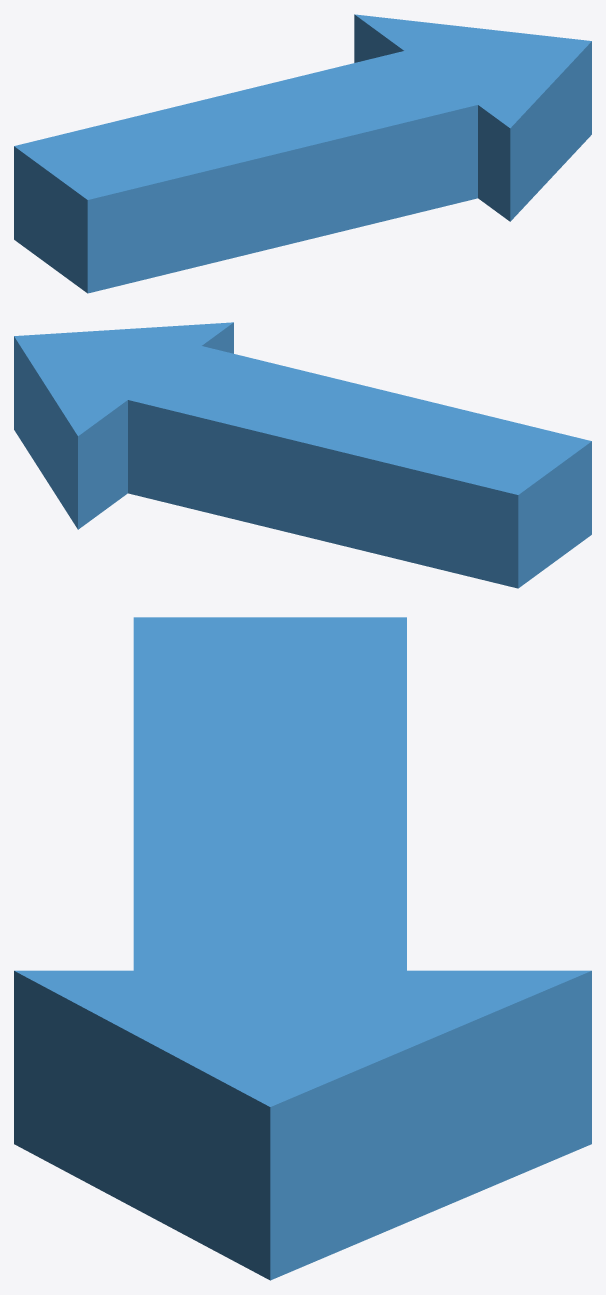
The model's file is seta01.gltf.
3 renders of one model, top to bottom at view 1: azimuth 30°, elevation 25°; view 2: azimuth 150°, elevation 25°; view 3: azimuth 270°, elevation 25°, orthographic. The views are drawn at different scales.
Bounding box in the file's own units: 9.09 × 1.5 × 4.53.
